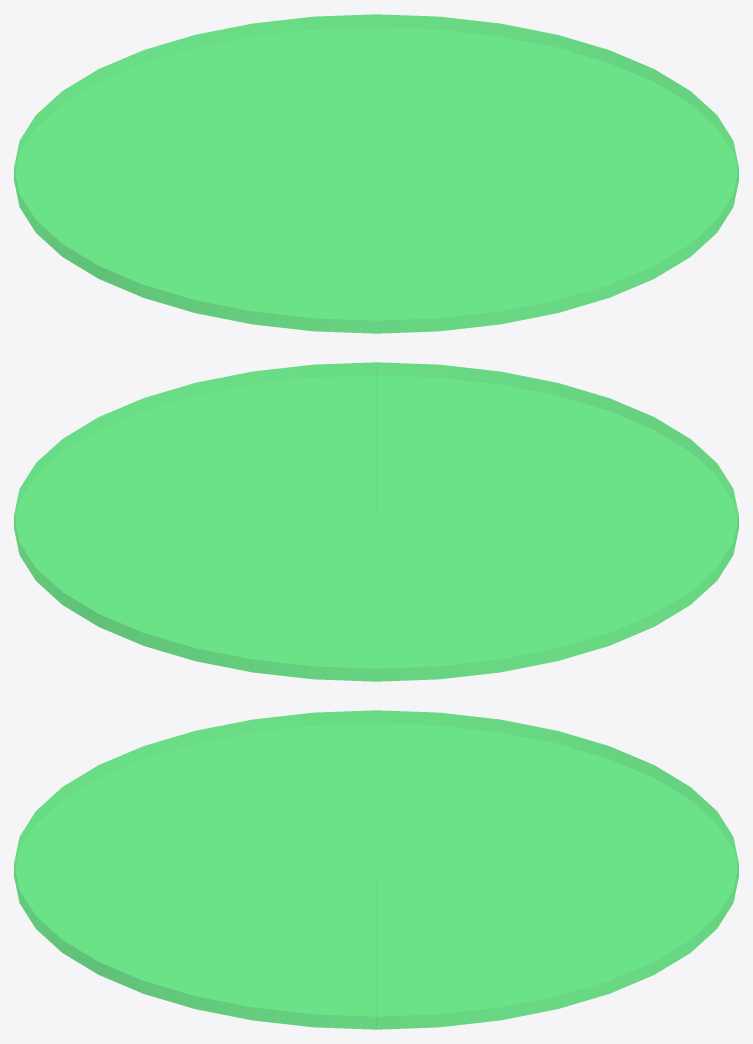
The picture shows the model from 3 angles, top to bottom: view 1: azimuth 30°, elevation 25°; view 2: azimuth 150°, elevation 25°; view 3: azimuth 270°, elevation 25°; orthographic projection.
Visible parts, largest first — view 1: Cylinder001; view 2: Cylinder001; view 3: Cylinder001.
Part boxes in pixels (left/top/right/bottom): Cylinder001: left=14, top=14, right=738, bottom=333; Cylinder001: left=14, top=362, right=738, bottom=681; Cylinder001: left=14, top=710, right=738, bottom=1029.
Size of the model in its own units: 2678 by 53.06 by 2678.
